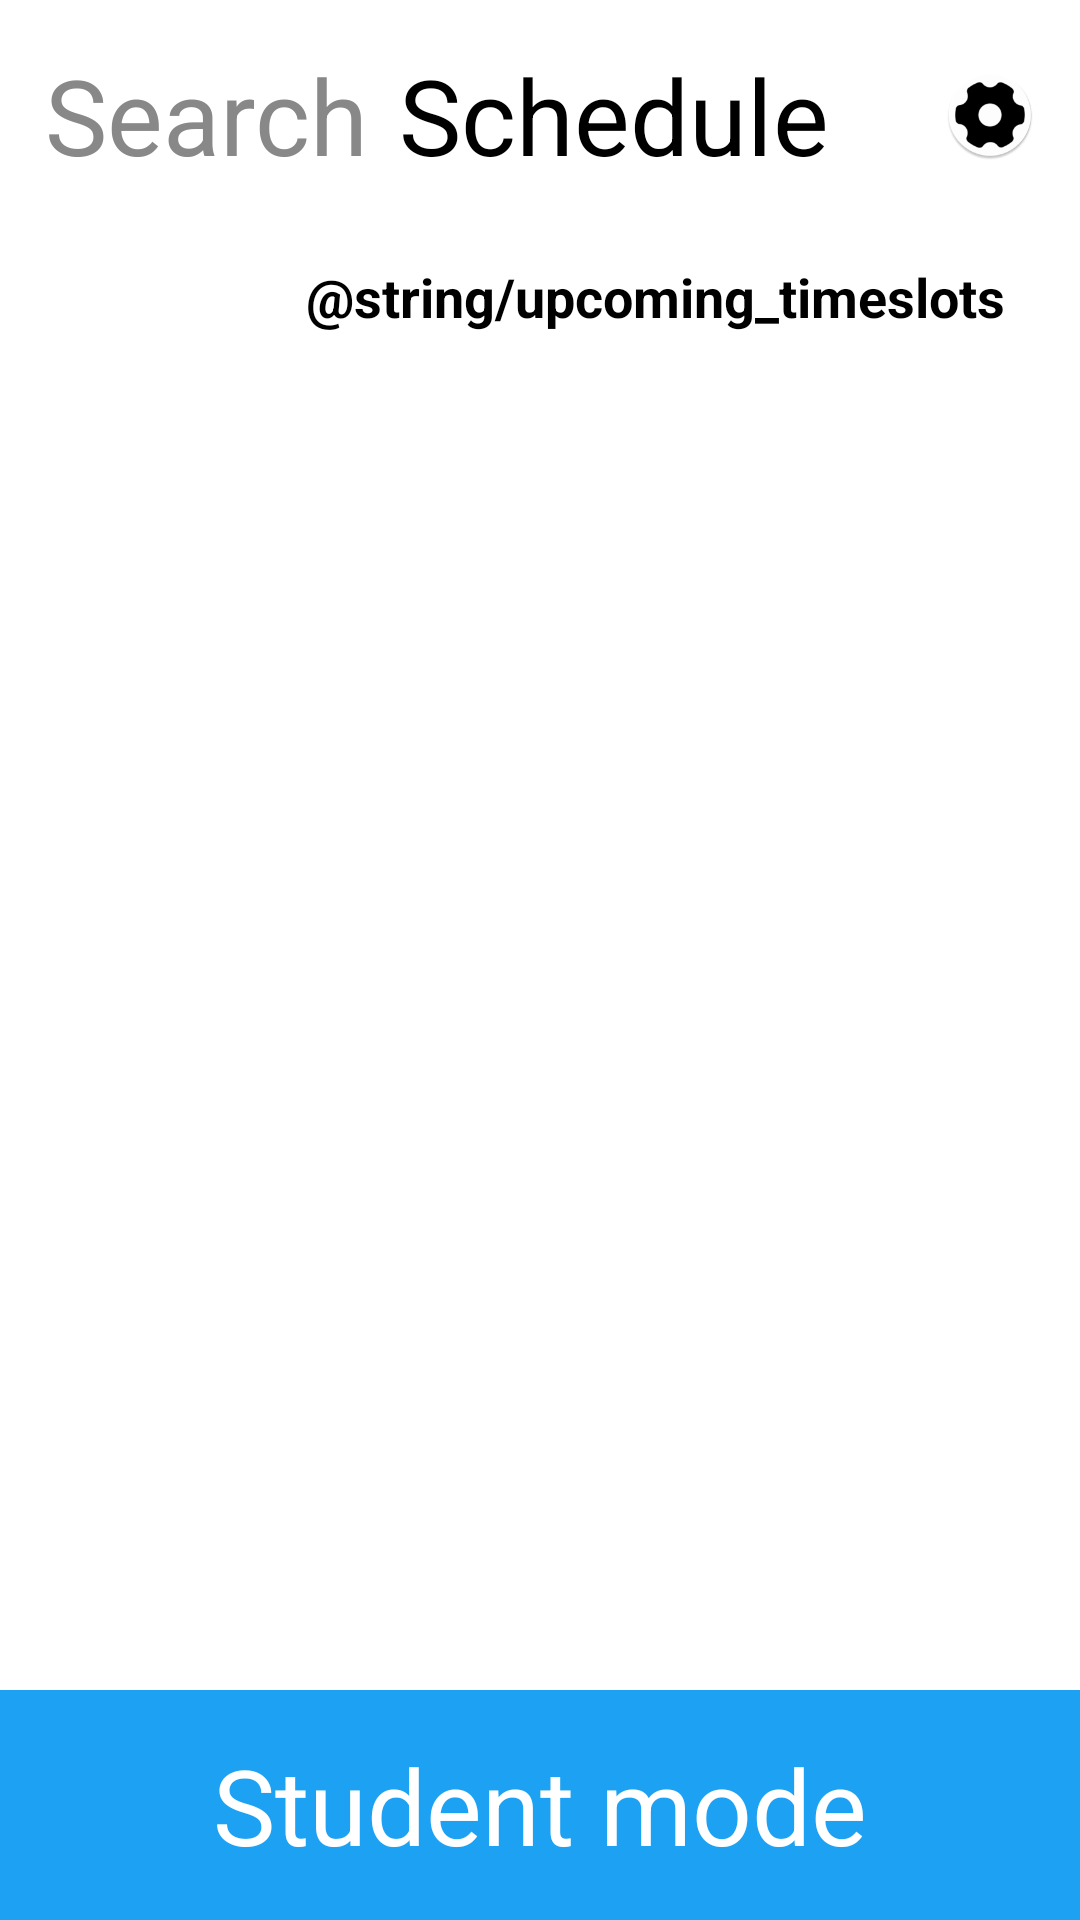

Icon click points for this 1080 x 1920 phone screenshot, format [x,y]:
settings round: [991,120]
